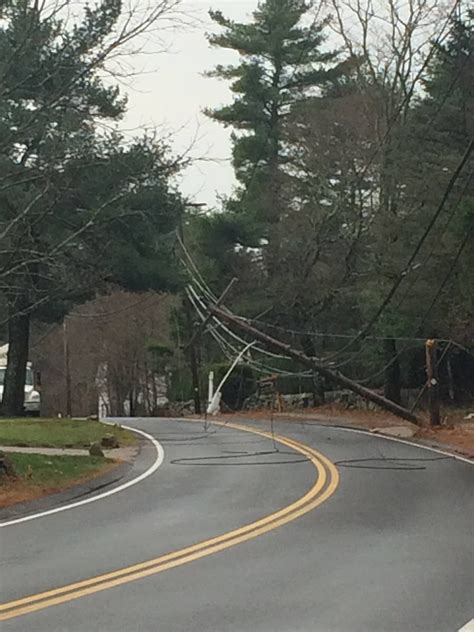pole: (184, 272, 466, 444)
